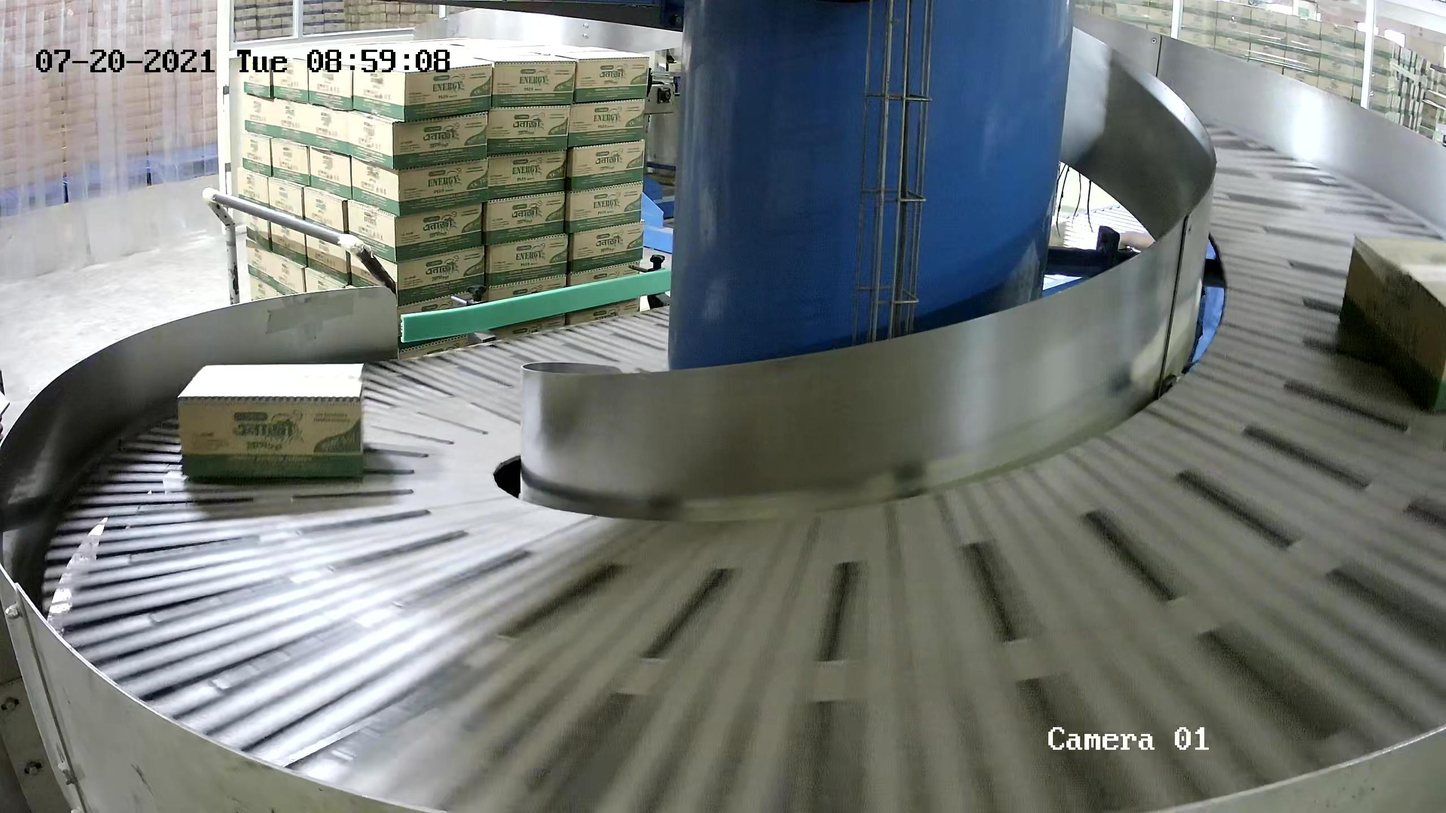Box: (175, 362, 366, 481), (1338, 231, 1446, 415)
